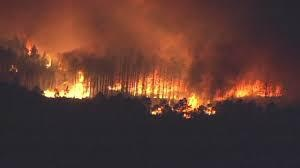fire: (39, 73, 93, 99)
